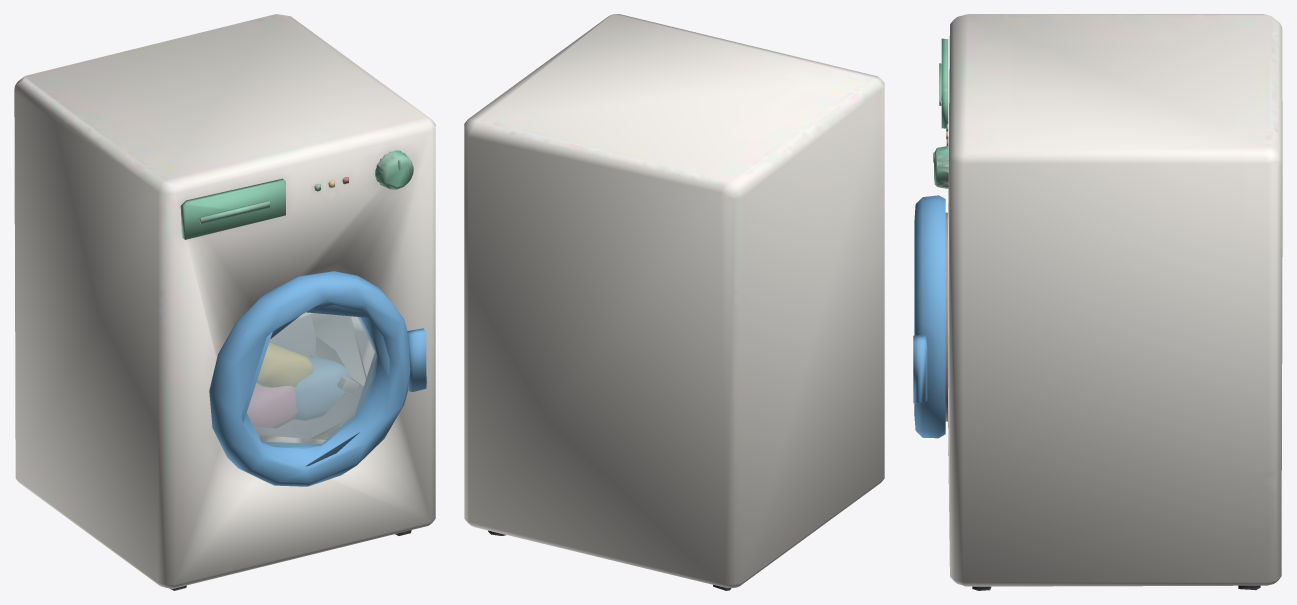
The model's file is g3d_washing_machine.glb.
The picture shows the model from 3 angles, left to right: view 1: azimuth 30°, elevation 25°; view 2: azimuth 150°, elevation 25°; view 3: azimuth 270°, elevation 25°; orthographic projection. The views are drawn at different scales.
Parts seen in each view (by area): view 1: washing-machine_body, washing-machine_door, washing-machine_door_glass, washing-machine_door_glass_lo, washing-machine_body_lo, washing-machine_door_lo; view 2: washing-machine_body; view 3: washing-machine_body, washing-machine_door.
Boxes of the visible parts, left/top/right/bottom form: washing-machine_body: left=14, top=14, right=435, bottom=590; washing-machine_door: left=209, top=271, right=426, bottom=486; washing-machine_door_glass: left=247, top=312, right=377, bottom=448; washing-machine_door_glass_lo: left=247, top=313, right=375, bottom=446; washing-machine_body_lo: left=174, top=152, right=410, bottom=590; washing-machine_door_lo: left=241, top=304, right=426, bottom=466; washing-machine_body: left=464, top=14, right=884, bottom=590; washing-machine_body: left=933, top=14, right=1282, bottom=590; washing-machine_door: left=913, top=195, right=945, bottom=438.
Bounding box in the file's own units: 0.5954 × 0.8477 × 0.6389.
Materials: 3 (2 with a texture image).
